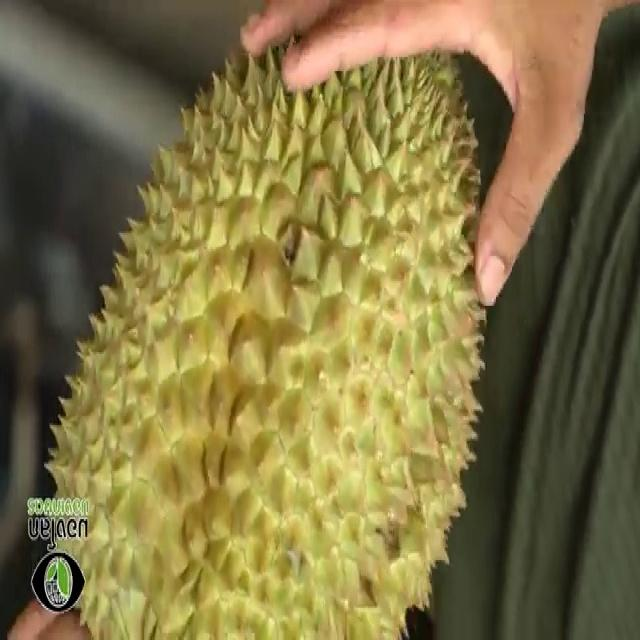durian: (42, 33, 498, 638)
